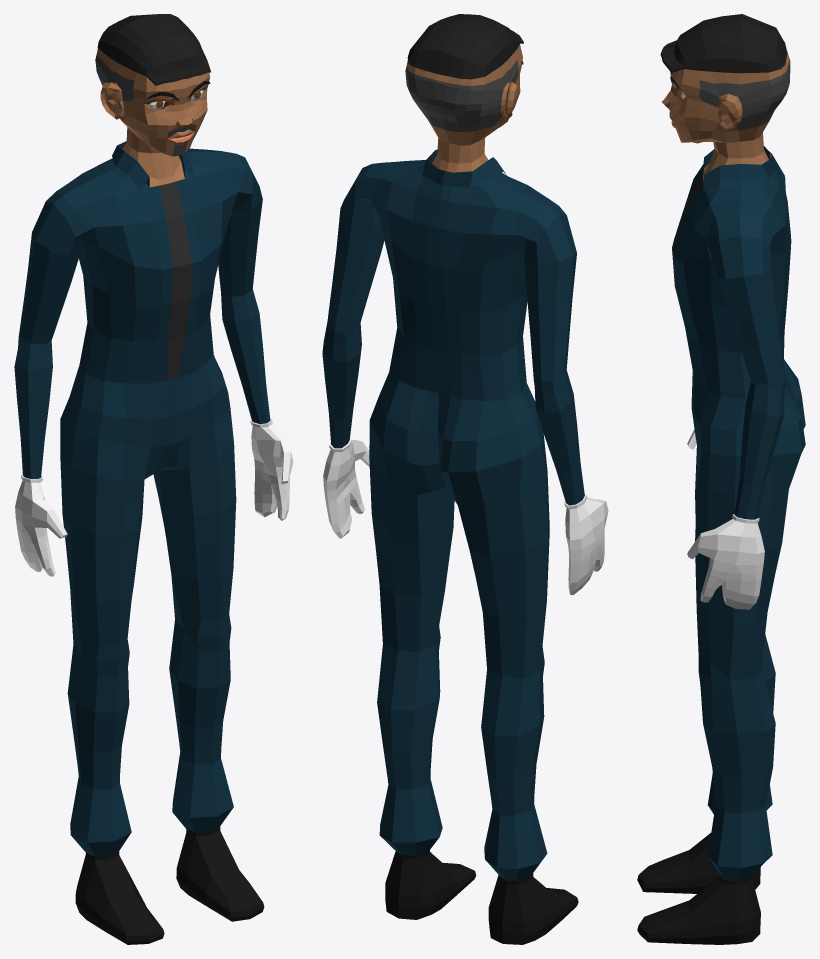
The model's file is Mechanic_Stand.fbx.
3 renders of one model, left to right at view 1: azimuth 30°, elevation 25°; view 2: azimuth 150°, elevation 25°; view 3: azimuth 270°, elevation 25°, orthographic. The views are drawn at different scales.
Visible parts, largest first — view 1: Mechanic_Stand; view 2: Mechanic_Stand; view 3: Mechanic_Stand.
Boxes of the visible parts, left/top/right/bottom form: Mechanic_Stand: left=14, top=14, right=293, bottom=944; Mechanic_Stand: left=322, top=14, right=608, bottom=944; Mechanic_Stand: left=637, top=14, right=805, bottom=944.
Size of the model in its own units: 0.2997 by 0.9751 by 0.1677.
